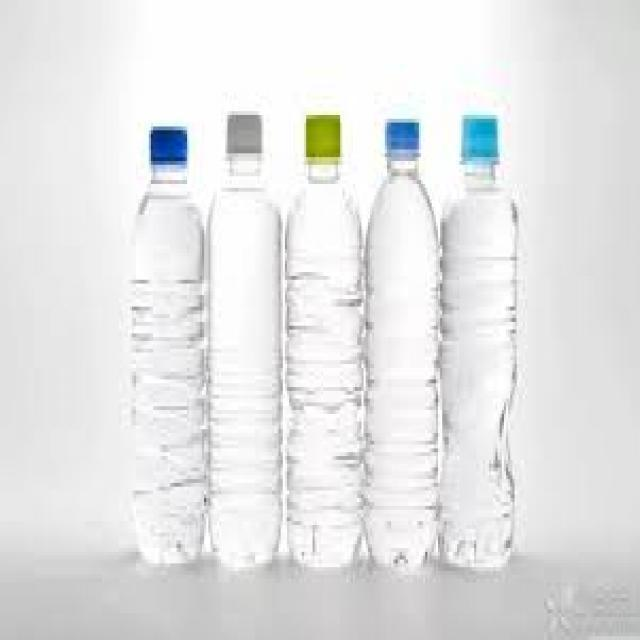Plastic: (438, 115, 524, 570), (124, 120, 208, 561), (283, 110, 364, 562), (360, 116, 440, 572), (206, 112, 284, 572)
